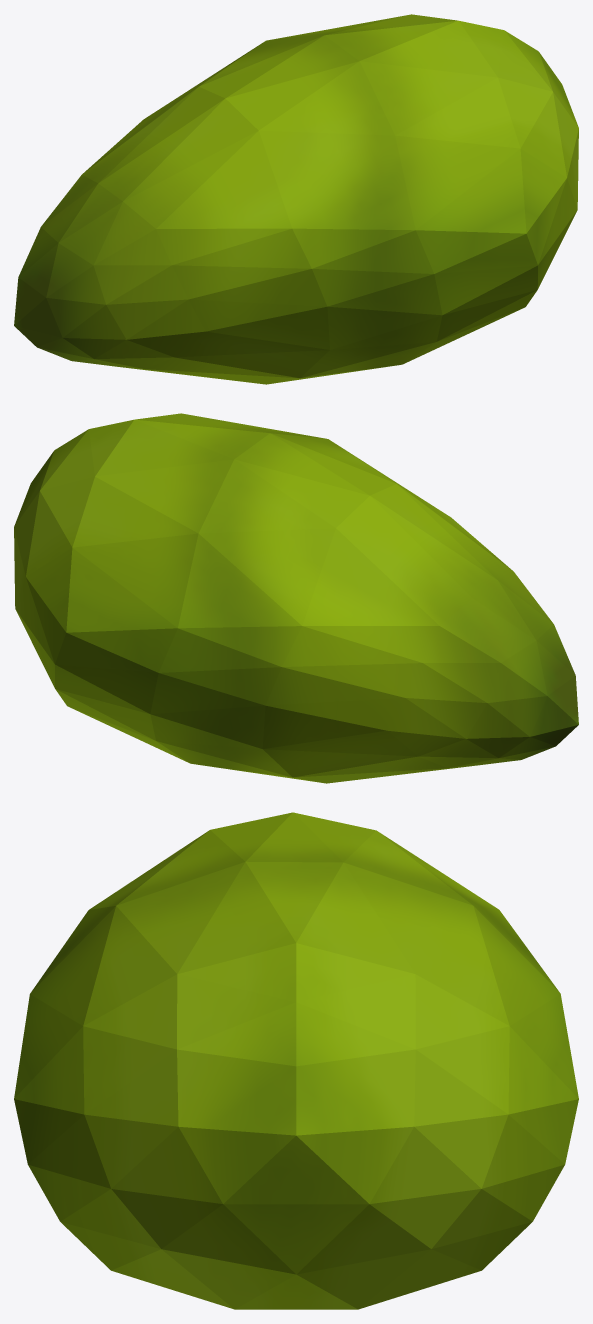
Rendered from ant1.obj.
The picture shows the model from 3 angles, top to bottom: view 1: azimuth 30°, elevation 25°; view 2: azimuth 150°, elevation 25°; view 3: azimuth 270°, elevation 25°; orthographic projection. The views are drawn at different scales.
Parts seen in each view (by area): view 1: ColobotMesh_1_ColobotMesh_; view 2: ColobotMesh_1_ColobotMesh_; view 3: ColobotMesh_1_ColobotMesh_.
Boxes of the visible parts, <box> form: ColobotMesh_1_ColobotMesh_: <box>14,14,578,384</box>; ColobotMesh_1_ColobotMesh_: <box>14,413,578,783</box>; ColobotMesh_1_ColobotMesh_: <box>14,812,578,1309</box>.
Size of the model in its own units: 3.11 by 1.63 by 2.01.
